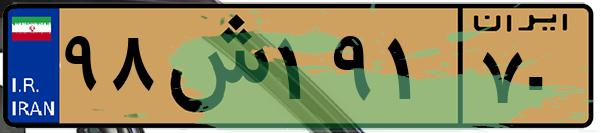0: (525, 38, 570, 115)
1: (270, 28, 330, 110), (385, 28, 445, 110)
7: (475, 38, 525, 113)
8: (110, 28, 158, 98)
9: (330, 28, 385, 110), (57, 26, 110, 100)
ش: (158, 12, 270, 120)
